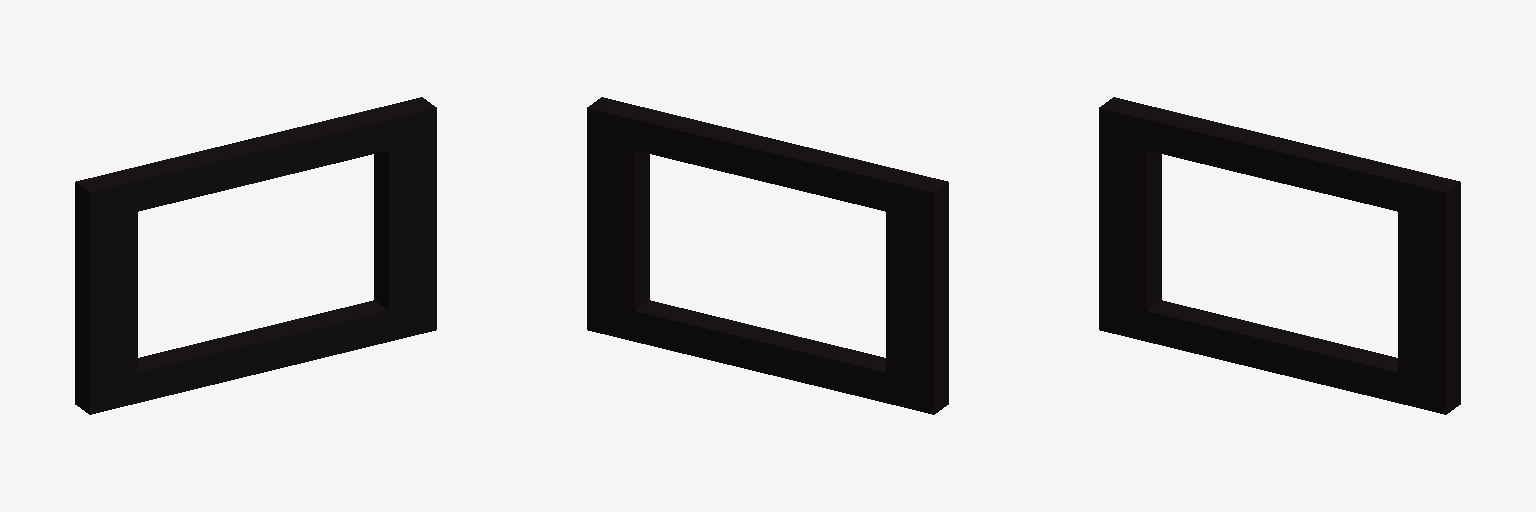
The model's file is Exit1.OBJ.
3 views of the same model, side by side, from view 1: azimuth 30°, elevation 25°; view 2: azimuth 150°, elevation 25°; view 3: azimuth 330°, elevation 25° (orthographic).
Parts seen in each view (by area): view 1: Exit1_Cube.009; view 2: Exit1_Cube.009; view 3: Exit1_Cube.009.
Boxes of the visible parts, box(x1,y1,x2,y2) form: Exit1_Cube.009: box(75, 97, 436, 414); Exit1_Cube.009: box(587, 97, 948, 414); Exit1_Cube.009: box(1099, 97, 1460, 414).
Size of the model in its own units: 0.0593 by 0.0362 by 0.0044.